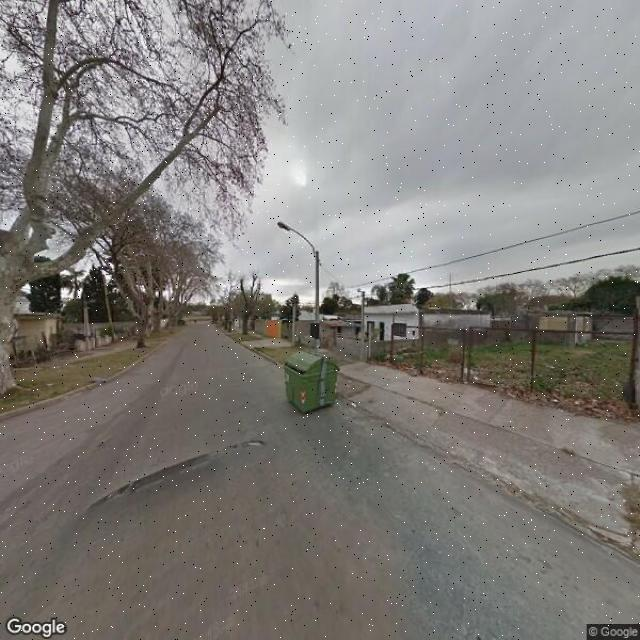garbage container: (276, 349, 355, 427)
